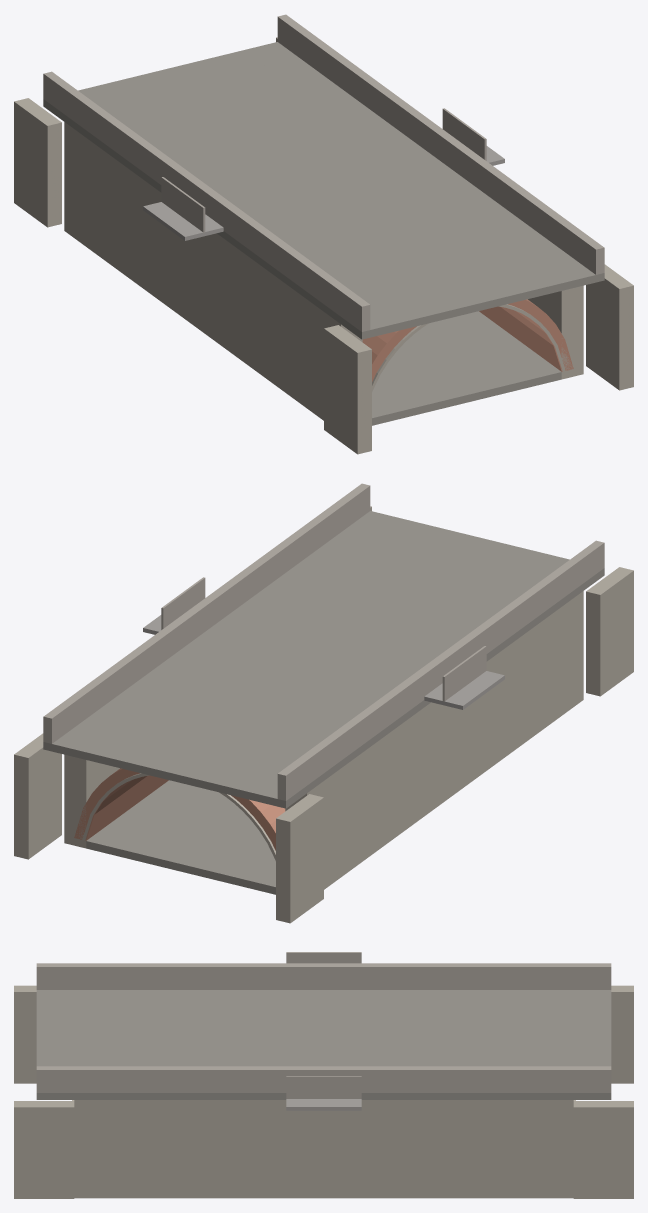
The model's file is cp_balcony_bridge.glb.
The picture shows the model from 3 angles, top to bottom: view 1: azimuth 30°, elevation 25°; view 2: azimuth 150°, elevation 25°; view 3: azimuth 270°, elevation 25°; orthographic projection. The views are drawn at different scales.
Visible parts, largest first — view 1: BalconyBridge; view 2: BalconyBridge; view 3: BalconyBridge.
Part boxes in pixels (x1,y1,x2,y2): BalconyBridge: (14,14,633,454); BalconyBridge: (14,483,633,923); BalconyBridge: (14,952,633,1198).
Bounding box in the file's own units: 13.23 × 5.71 × 24.61.
